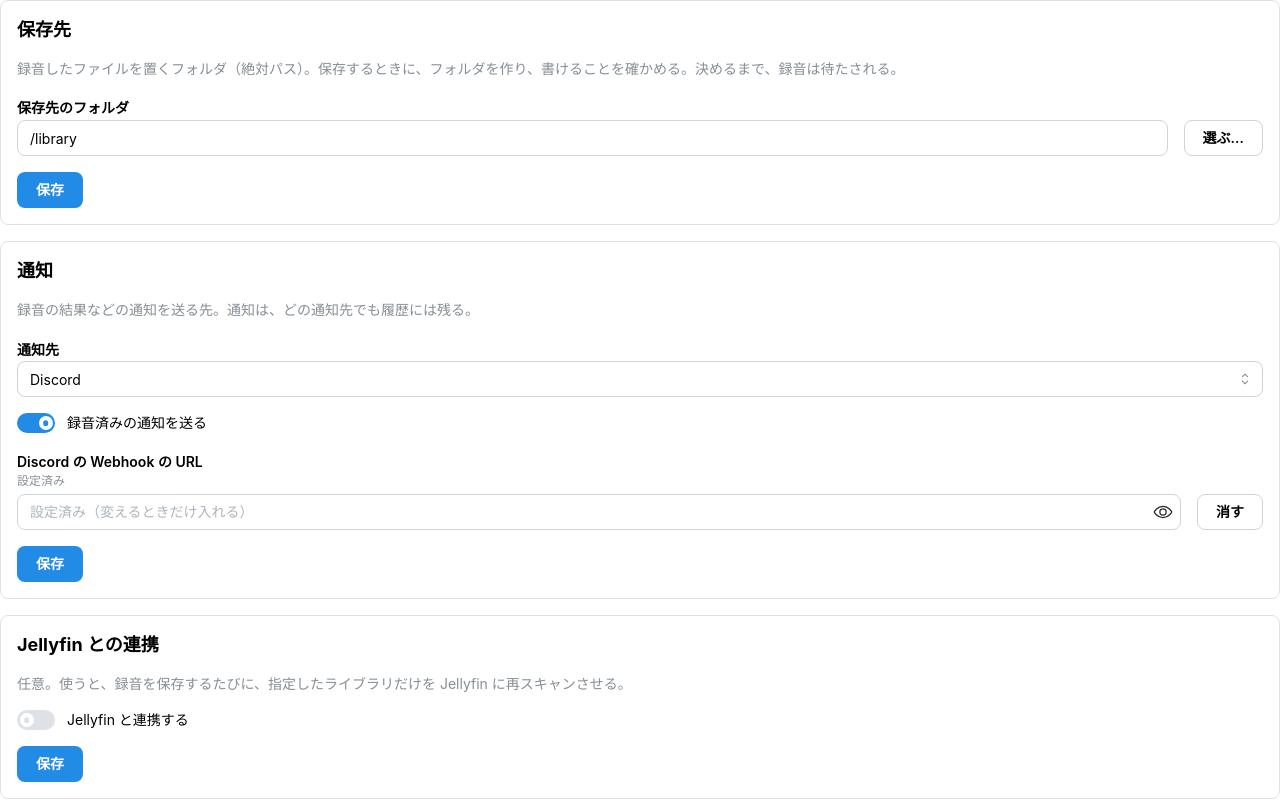
Test case: SettingsPage › 「消す」の後の保存が断られたら、その理由を出す
Click the button with aria-label "Discord の Webhook の URLを消す" at (1230, 512), box [1197, 494, 1263, 530]
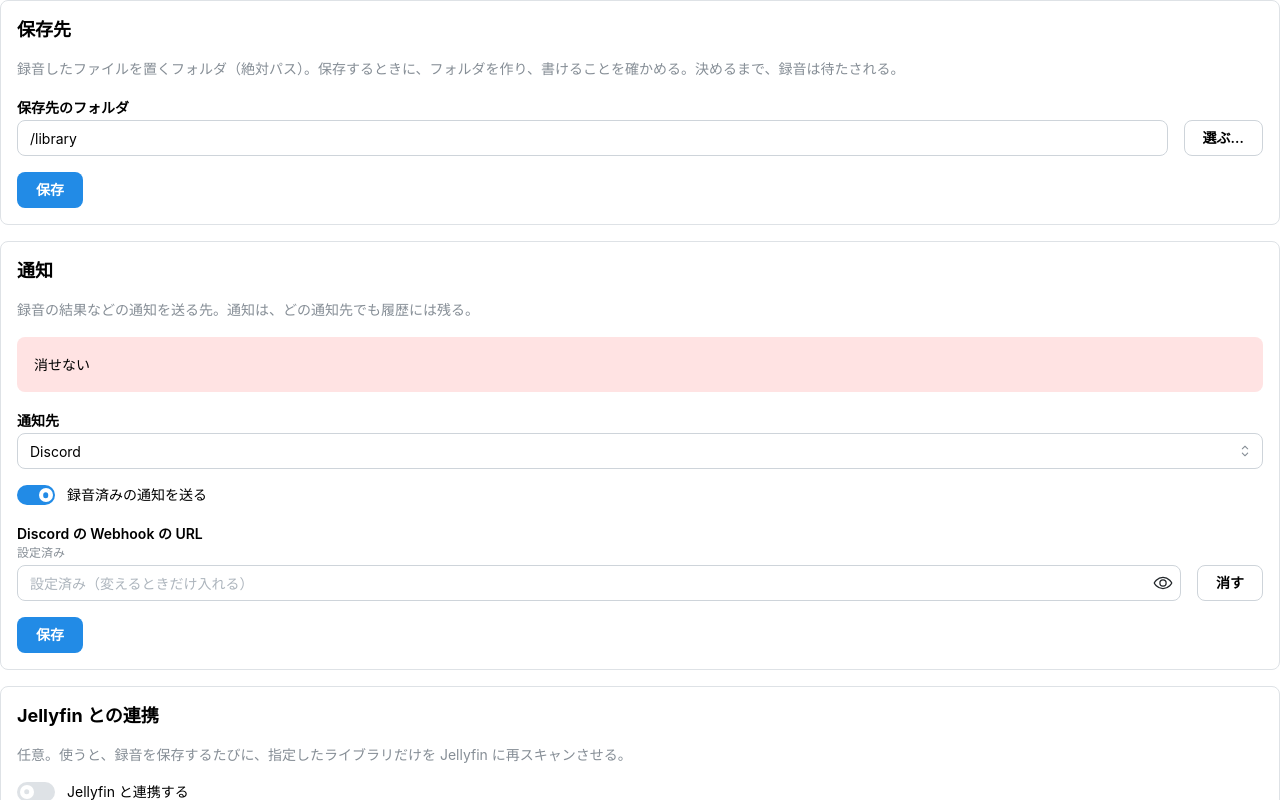
Expected: the message reads "消せない", [34, 356, 90, 373]
